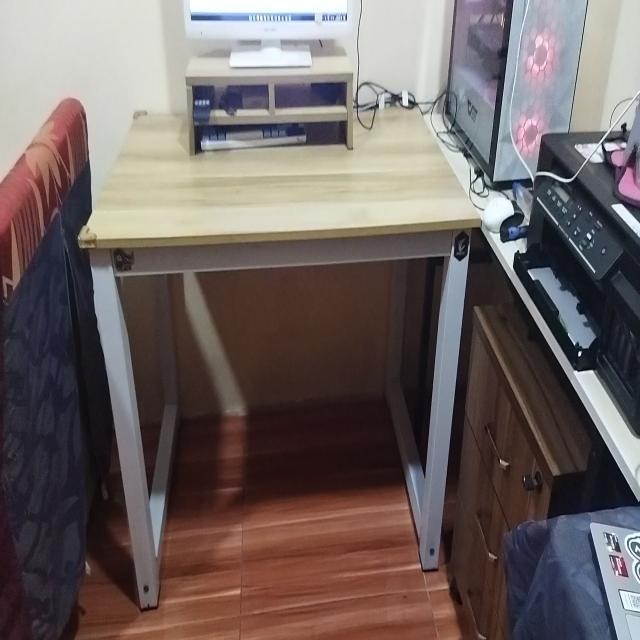table: (71, 93, 490, 602)
